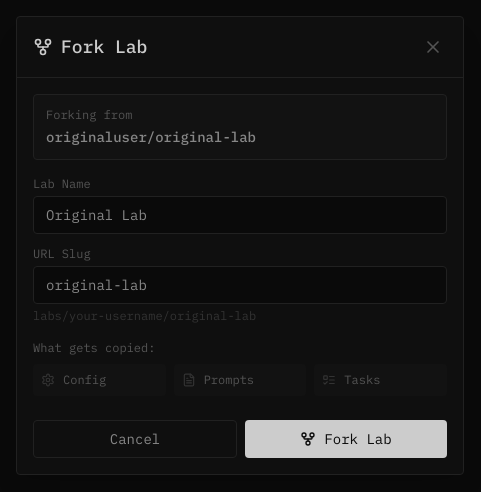
Test: ForkDialog › auto-generates slug from name
Replace the text in the field with placeholder "My Lab" below "Lab Name" with "My Custom Fork" at (240, 214), box [33,196,447,234]
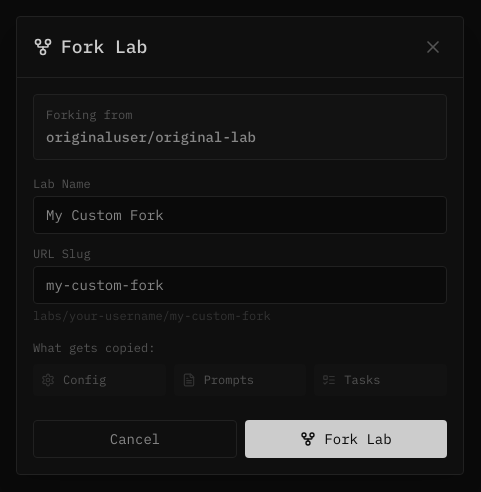
Expected: the field with placeholder "my-lab" below "URL Slug" holds "my-custom-fork", [33,266,447,304]
